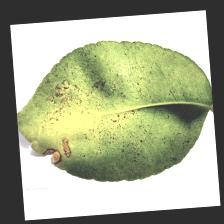canker: (28, 58, 83, 173)
